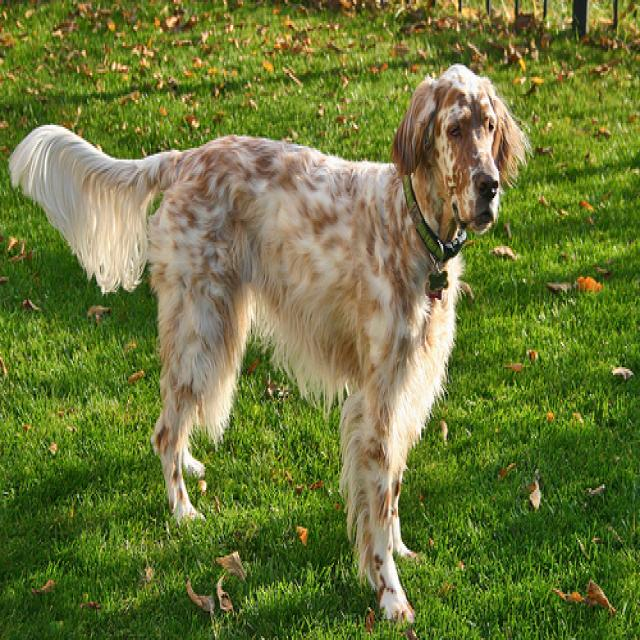dog-english_setter: (4, 52, 535, 632)
